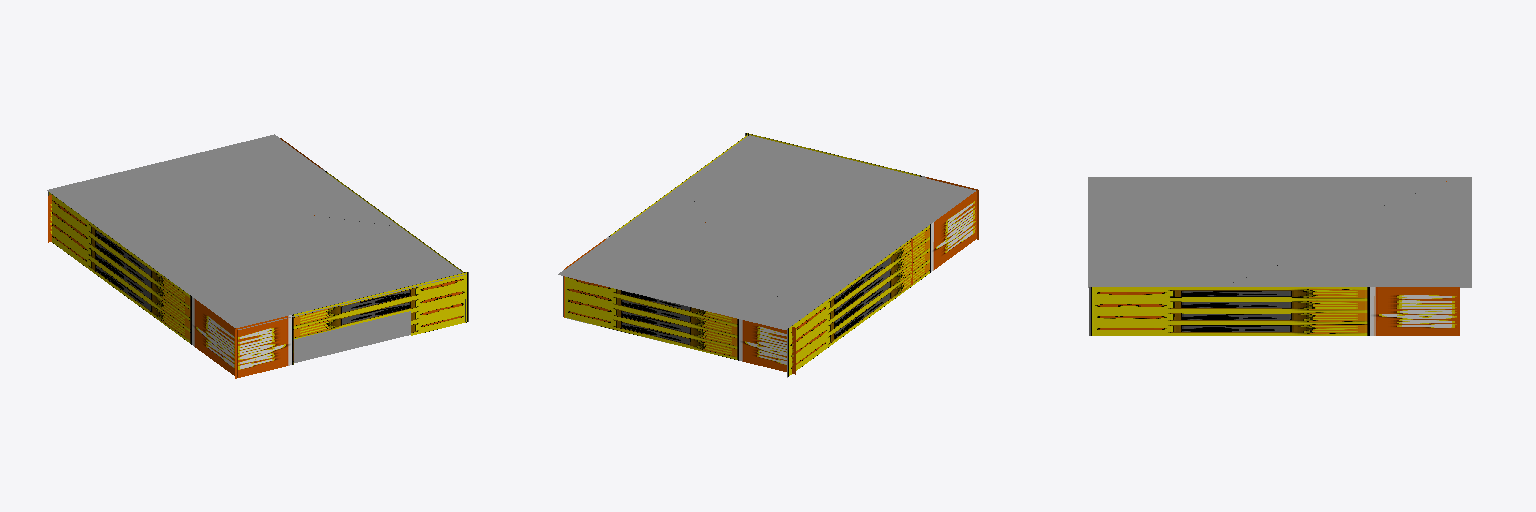
3 views of the same model, side by side, from view 1: azimuth 30°, elevation 25°; view 2: azimuth 150°, elevation 25°; view 3: azimuth 270°, elevation 25° (orthographic).
Parts seen in each view (by area): view 1: Plane017, Plane014, Plane018, Plane001; view 2: Plane017, Plane016, Plane014; view 3: Plane017, Plane015.
Boxes of the visible parts, <box> form: Plane017: <box>47,134,465,329</box>; Plane014: <box>48,191,237,377</box>; Plane018: <box>235,272,468,378</box>; Plane001: <box>62,249,410,362</box>; Plane017: <box>558,135,975,329</box>; Plane016: <box>563,276,795,374</box>; Plane014: <box>787,191,976,377</box>; Plane017: <box>1088,177,1471,287</box>; Plane015: <box>1089,287,1459,335</box>.
Size of the model in its own units: 723 by 147 by 1017.
Materials: 8 (1 with a texture image).